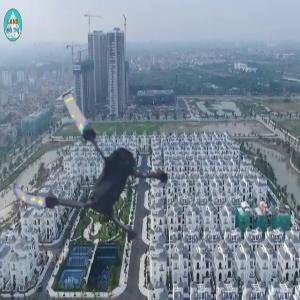drone: (10, 81, 191, 262)
